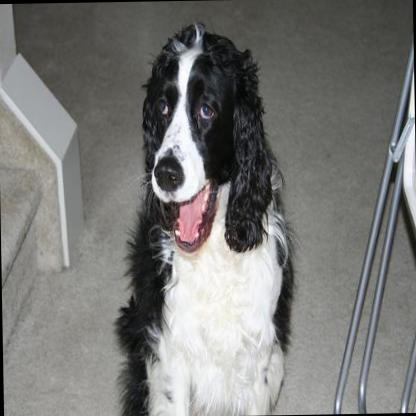English_springer: (105, 16, 303, 415)
